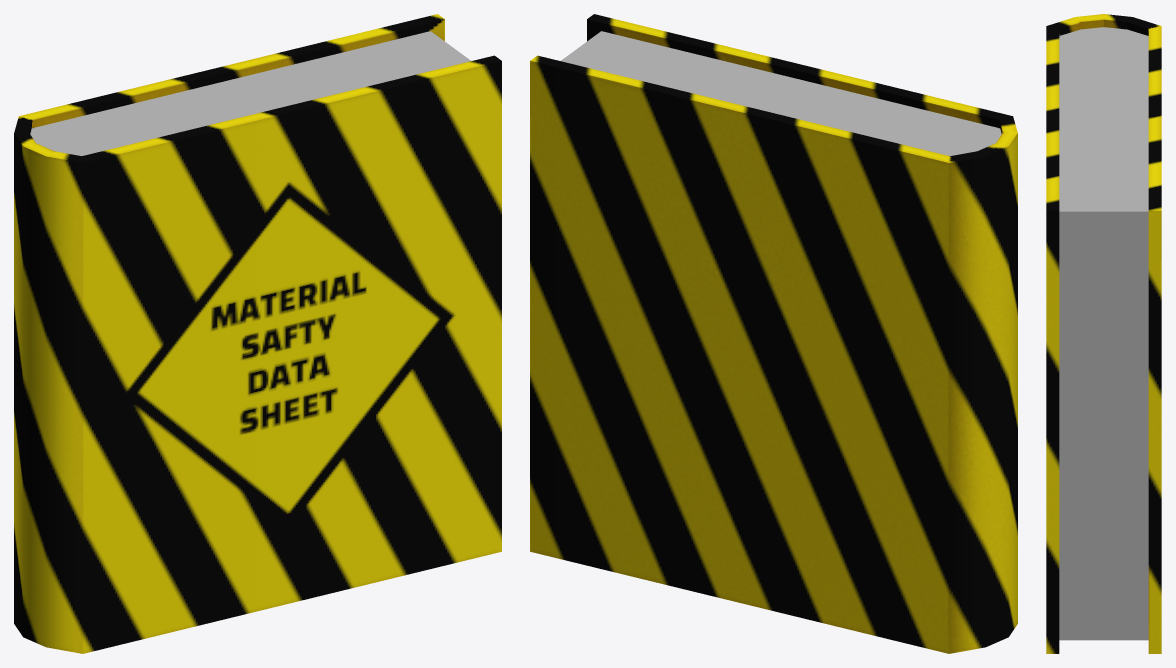
Rendered from Chem_MSDH.fbx.
3 views of the same model, side by side, from view 1: azimuth 30°, elevation 25°; view 2: azimuth 150°, elevation 25°; view 3: azimuth 270°, elevation 25° (orthographic). The views are drawn at different scales.
Visible parts, largest first — view 1: MSDH; view 2: MSDH; view 3: MSDH.
Boxes of the visible parts, x1,y1,x2,y2 form: MSDH: [14, 14, 501, 653]; MSDH: [530, 14, 1017, 653]; MSDH: [1046, 14, 1161, 653].
Bounding box in the file's own units: 1.07 × 1.12 × 0.2644.
Materials: 1 (1 with a texture image).
